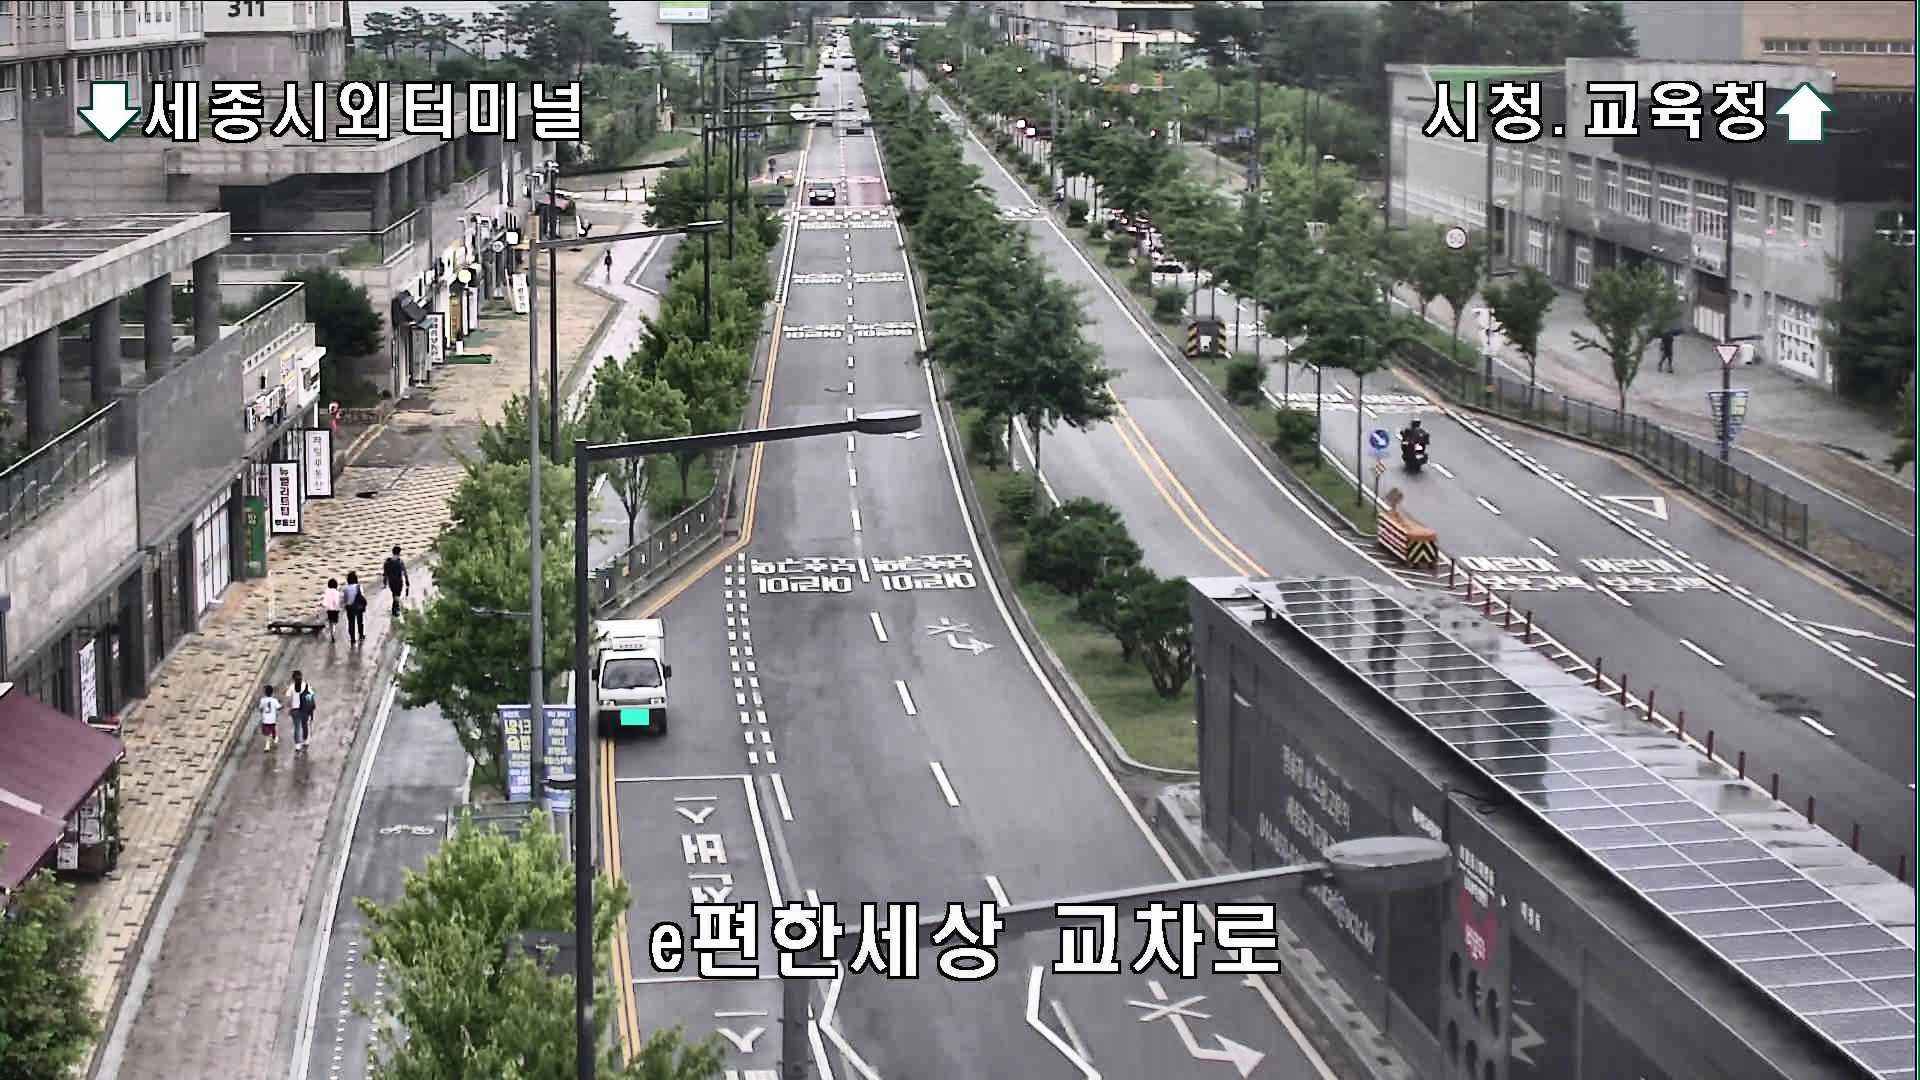sidewalk: (284, 670, 316, 752), (381, 545, 410, 618), (255, 684, 282, 752), (342, 571, 367, 644), (320, 578, 342, 645), (603, 244, 615, 280)
um_sidewalk: (1651, 322, 1684, 378)
